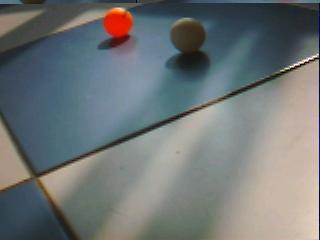oball: (104, 7, 133, 37)
